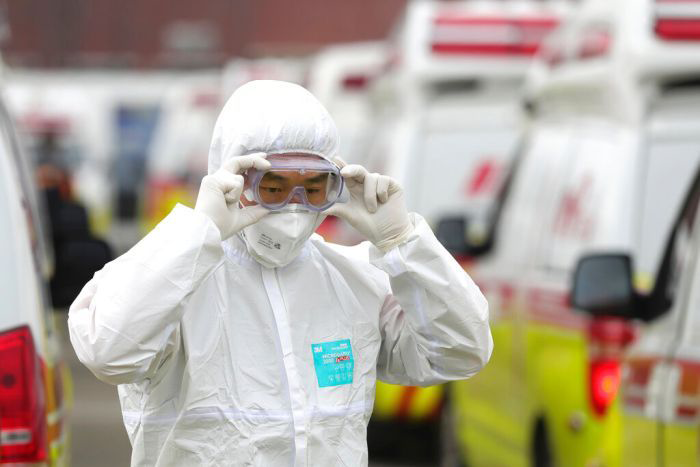Coverall: (67, 200, 498, 467)
Gloves: (326, 155, 426, 258), (184, 150, 273, 234)
Goggles: (243, 154, 348, 213)
with_mask: (240, 157, 331, 269)
